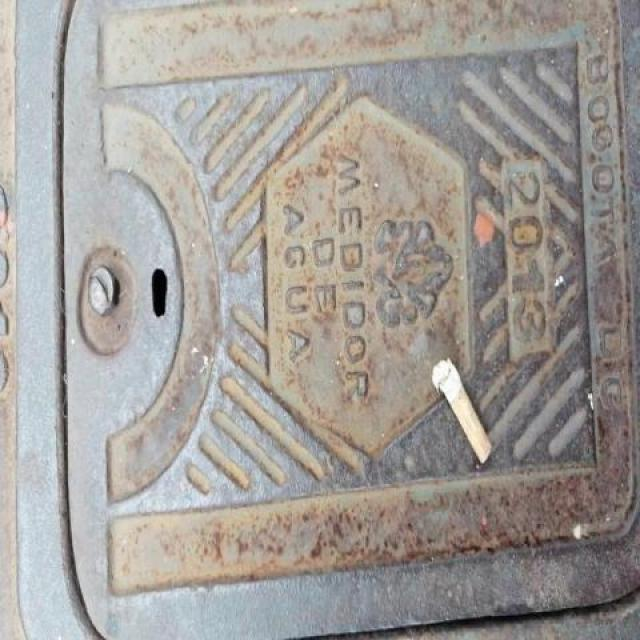non-organic waste: (429, 352, 495, 467)
